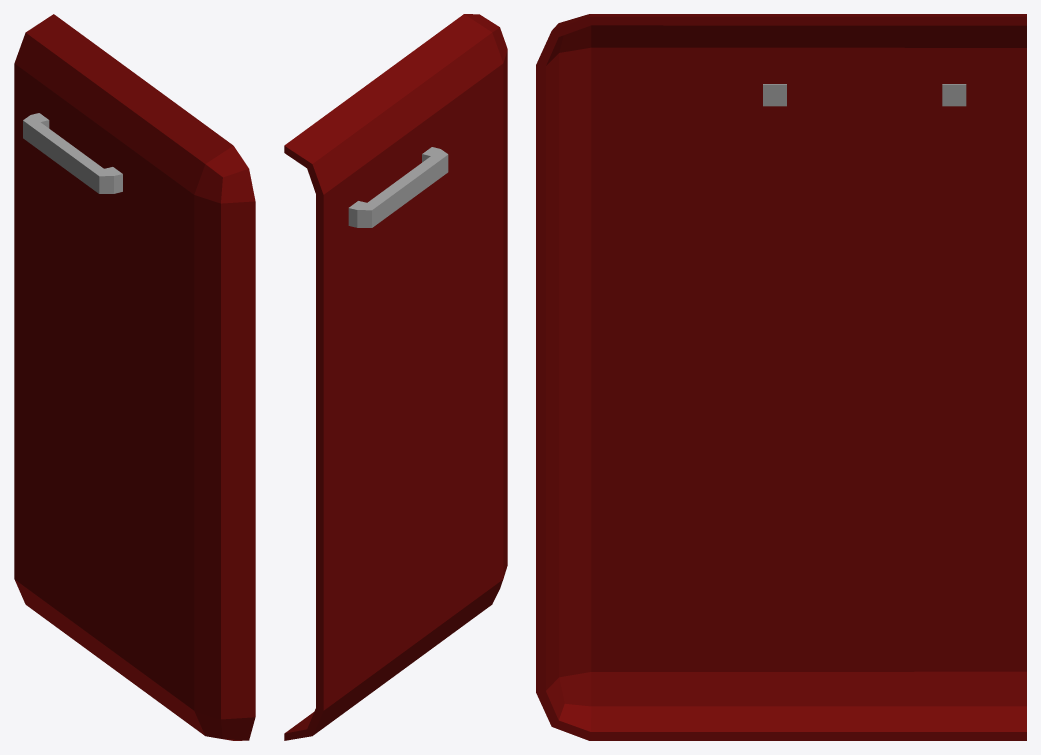
File: door_freezer.obj
3 renders of one model, left to right at view 1: azimuth 30°, elevation 25°; view 2: azimuth 150°, elevation 25°; view 3: azimuth 270°, elevation 25°, orthographic. The views are drawn at different scales.
Visible parts, largest first — view 1: Cube.094_Cube.122_basic_1, Cube.094_Cube.122_basic_2; view 2: Cube.094_Cube.122_basic_1, Cube.094_Cube.122_basic_2; view 3: Cube.094_Cube.122_basic_1, Cube.094_Cube.122_basic_2.
Boxes of the visible parts, x1,y1,x2,y2 form: Cube.094_Cube.122_basic_1: [14, 14, 255, 740]; Cube.094_Cube.122_basic_2: [23, 113, 122, 193]; Cube.094_Cube.122_basic_1: [284, 14, 507, 740]; Cube.094_Cube.122_basic_2: [348, 147, 448, 227]; Cube.094_Cube.122_basic_1: [536, 14, 1026, 740]; Cube.094_Cube.122_basic_2: [763, 84, 966, 106].
Bounding box in the file's own units: 0.0156 × 0.1498 × 0.092.
